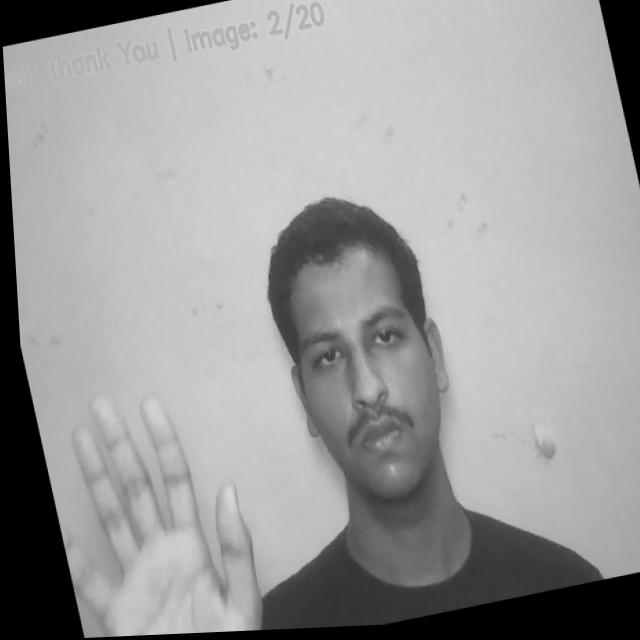Hello: (28, 374, 266, 640)
